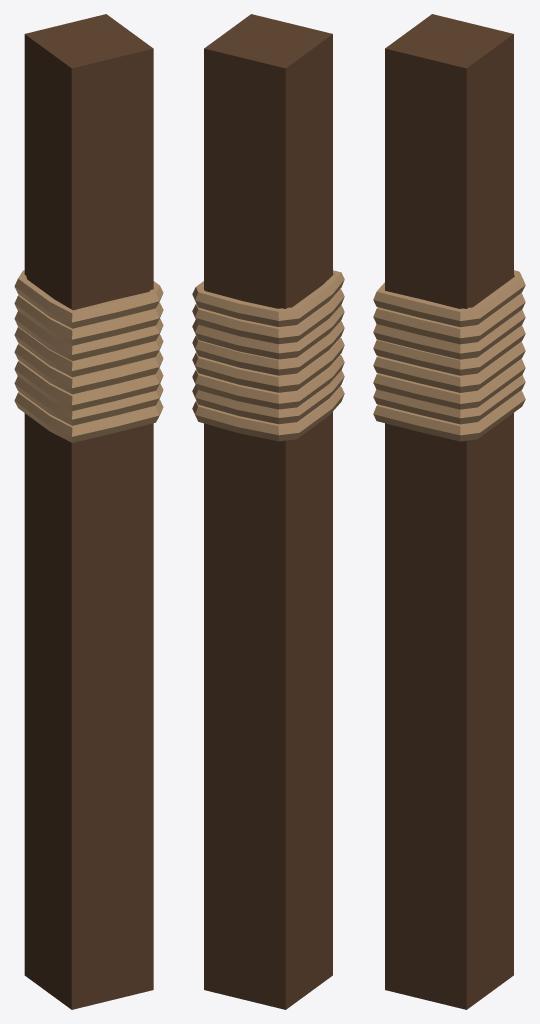
File: HammockWood_01.fbx
3 views of the same model, side by side, from view 1: azimuth 30°, elevation 25°; view 2: azimuth 150°, elevation 25°; view 3: azimuth 330°, elevation 25° (orthographic).
Visible parts, largest first — view 1: HammockWood_01_LOD0; view 2: HammockWood_01_LOD0; view 3: HammockWood_01_LOD0.
Part boxes in pixels (<box>): HammockWood_01_LOD0: <box>14,14,163,1009</box>; HammockWood_01_LOD0: <box>192,14,344,1009</box>; HammockWood_01_LOD0: <box>373,14,525,1009</box>.
Size of what is drawn, in the model's own units: 0.2394 by 2.04 by 0.2428.
